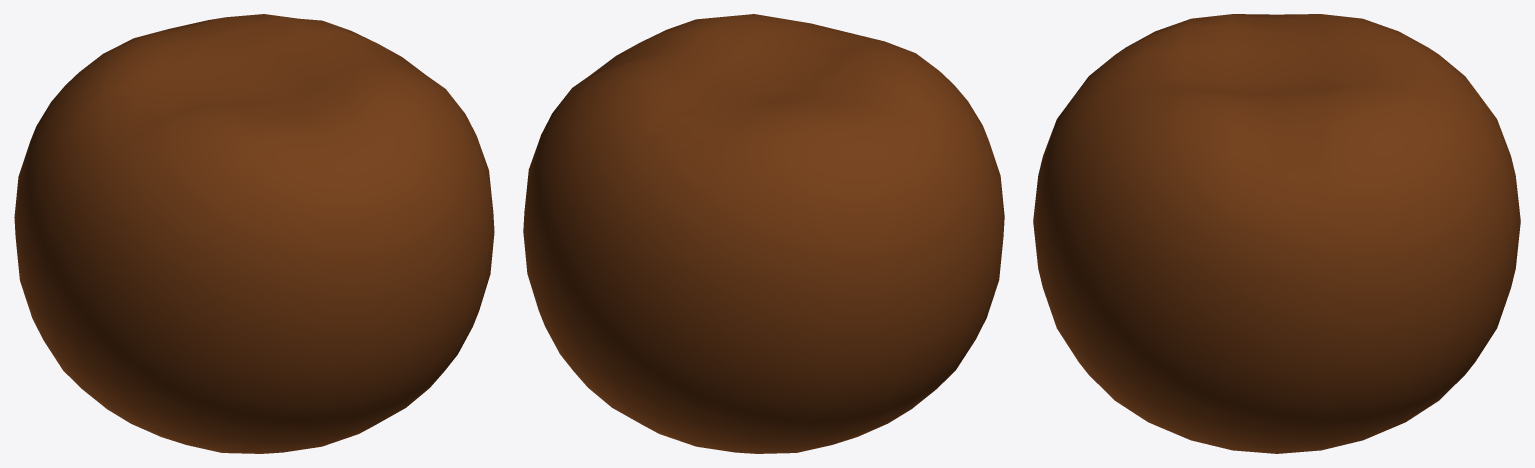
The model's file is orangeRotten.fbx.
3 renders of one model, left to right at view 1: azimuth 30°, elevation 25°; view 2: azimuth 150°, elevation 25°; view 3: azimuth 270°, elevation 25°, orthographic.
Visible parts, largest first — view 1: orangeRotten_LOD0; view 2: orangeRotten_LOD0; view 3: orangeRotten_LOD0.
Boxes of the visible parts, x1,y1,x2,y2 form: orangeRotten_LOD0: (14,14,494,453); orangeRotten_LOD0: (523,14,1004,453); orangeRotten_LOD0: (1033,14,1520,453).
Size of what is drawn, in the model's own units: 0.0736 by 0.0603 by 0.0736.
1 material, 1 textured.
